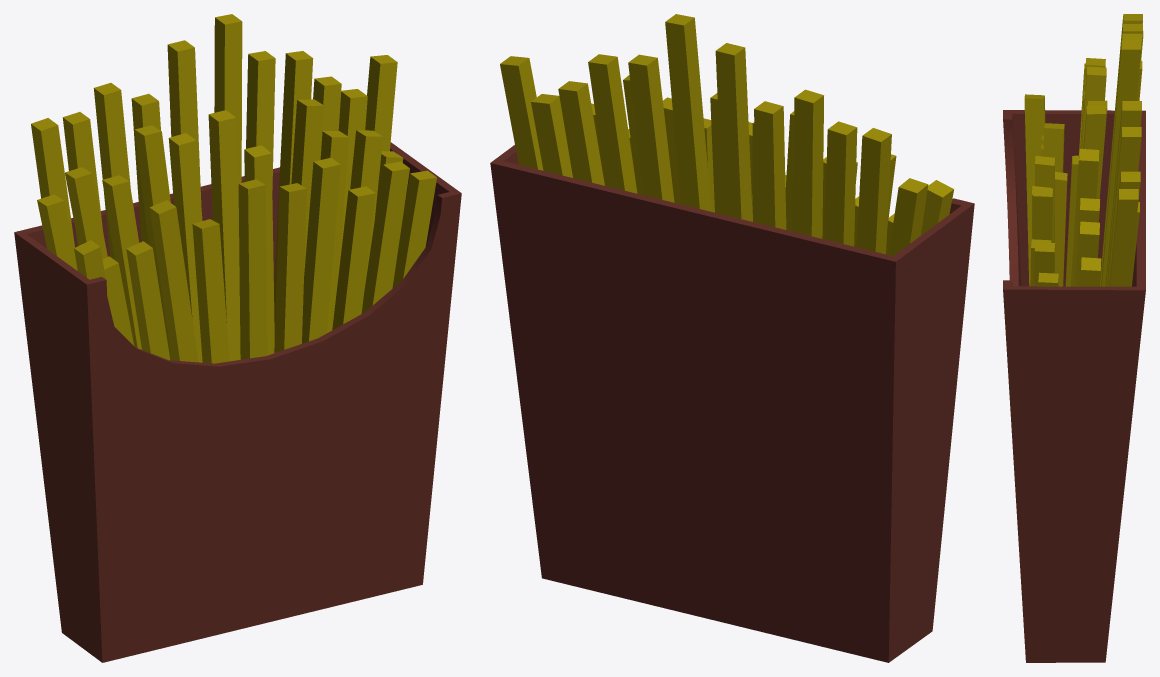
The model's file is Low Poly Fries.fbx.
3 renders of one model, left to right at view 1: azimuth 30°, elevation 25°; view 2: azimuth 150°, elevation 25°; view 3: azimuth 270°, elevation 25°, orthographic. The views are drawn at different scales.
Parts seen in each view (by area): view 1: polySurface1, pCube23 (×2), pCube22 (×2), pCube17 (×2), pCube18 (×2), pCube16 (×2), pCube24 (×2), pCube15 (×2), pCube19 (×2), pCube14 (×2), pCube20 (×2), pCube9 (+11 smaller); view 2: polySurface1, pCube9, pCube10, pCube8, pCube12, pCube7, pCube11, pCube3, pCube13, pCube6, pCube4, pCube5 (+5 smaller); view 3: polySurface1, pCube21 (×2), pCube9, pCube18 (×2), pCube4, pCube24 (×2), pCube17 (×2), pCube23 (×2), pCube7, pCube15 (×2), pCube8, pCube20 (+7 smaller).
Boxes of the visible parts, x1=… form: polySurface1: x1=14, y1=142, x2=461, y2=662; pCube23 (×2): x1=208, y1=110, x2=267, y2=361; pCube22 (×2): x1=168, y1=133, x2=306, y2=362; pCube17 (×2): x1=134, y1=125, x2=340, y2=360; pCube18 (×2): x1=149, y1=99, x2=324, y2=362; pCube16 (×2): x1=102, y1=175, x2=375, y2=349; pCube24 (×2): x1=192, y1=145, x2=274, y2=363; pCube15 (×2): x1=65, y1=161, x2=409, y2=313; pCube19 (×2): x1=126, y1=131, x2=348, y2=360; pCube14 (×2): x1=37, y1=170, x2=436, y2=288; pCube20 (×2): x1=102, y1=130, x2=382, y2=345; pCube9: x1=214, y1=14, x2=242, y2=183; polySurface1: x1=490, y1=145, x2=974, y2=662; pCube9: x1=665, y1=14, x2=711, y2=211; pCube10: x1=715, y1=43, x2=752, y2=221; pCube8: x1=628, y1=54, x2=674, y2=202; pCube12: x1=793, y1=89, x2=823, y2=238; pCube7: x1=588, y1=54, x2=637, y2=193; pCube11: x1=754, y1=101, x2=786, y2=229; pCube3: x1=856, y1=128, x2=891, y2=254; pCube13: x1=824, y1=121, x2=857, y2=246; pCube6: x1=558, y1=81, x2=604, y2=185; pCube4: x1=500, y1=56, x2=543, y2=170; pCube5: x1=531, y1=94, x2=572, y2=177; polySurface1: x1=1003, y1=110, x2=1145, y2=662; pCube21 (×2): x1=1024, y1=94, x2=1101, y2=286; pCube9: x1=1101, y1=40, x2=1141, y2=286; pCube18 (×2): x1=1043, y1=123, x2=1099, y2=286; pCube4: x1=1109, y1=189, x2=1138, y2=286; pCube24 (×2): x1=1054, y1=155, x2=1078, y2=286; pCube17 (×2): x1=1032, y1=66, x2=1106, y2=242; pCube23 (×2): x1=1035, y1=105, x2=1106, y2=242; pCube7: x1=1106, y1=127, x2=1141, y2=286; pCube15 (×2): x1=1034, y1=58, x2=1105, y2=286; pCube8: x1=1105, y1=101, x2=1141, y2=286; pCube20: x1=1075, y1=221, x2=1099, y2=286.
Size of the model in its own units: 1 by 1.43 by 0.3364.
